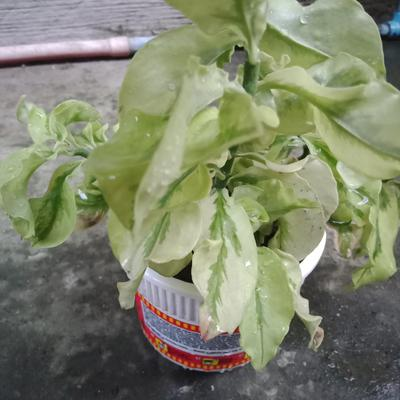Pothos plant: (70, 27, 384, 274)
